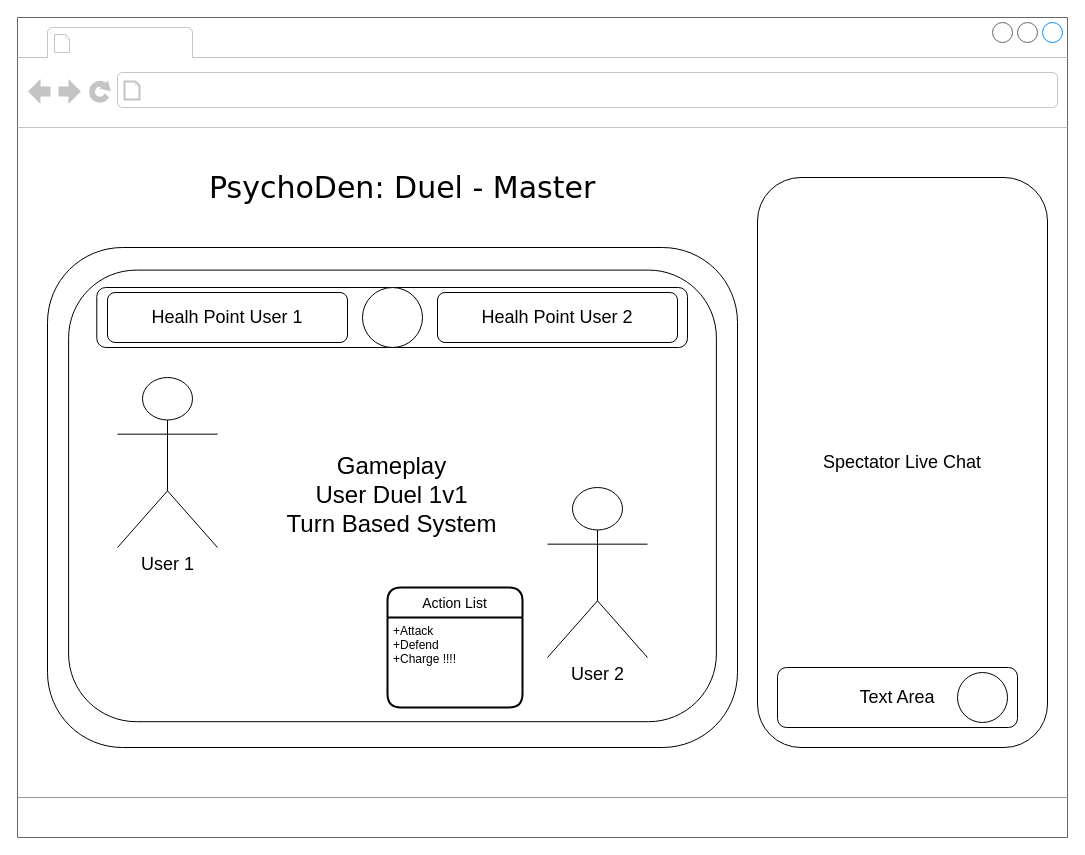
Image size: 1085x855. Some labels were removed from this diagram. The shapes that lost their labels are listed below. From the top down, each one's centre as x and y in pixels, then its label:
At pixel 132 42: "Page 1".
At pixel 272 90: "https://www.default.com".
At pixel 392 317: "Timer".
